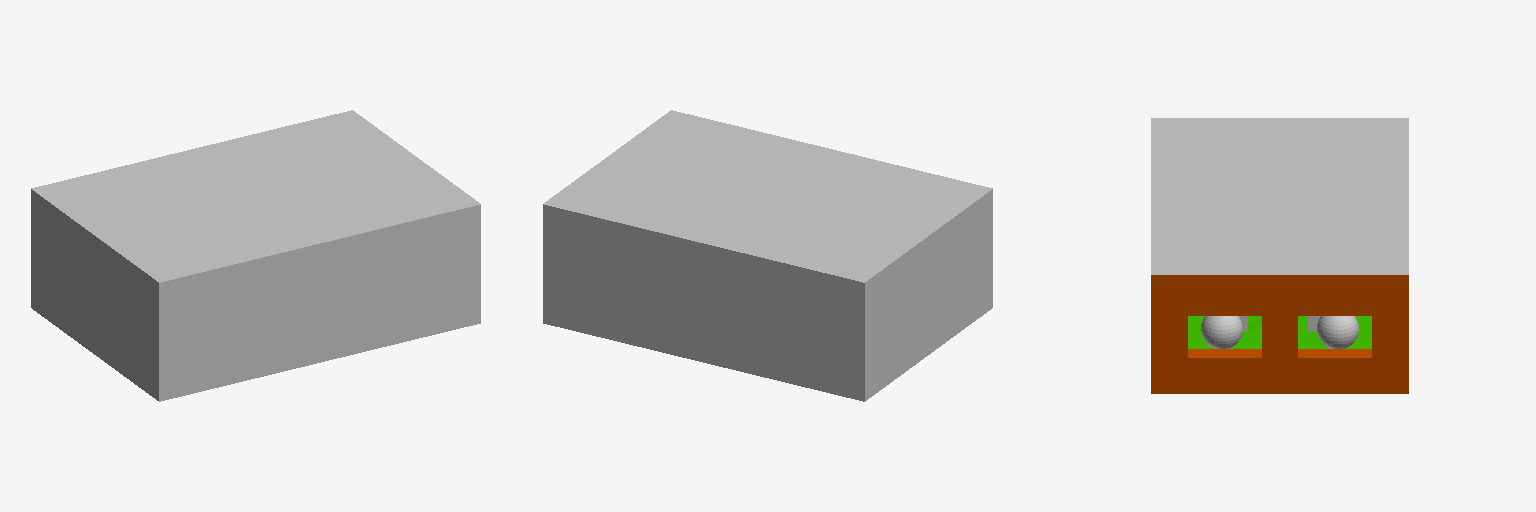
Rendered from pillarRoom_.obj.
3 renders of one model, left to right at view 1: azimuth 30°, elevation 25°; view 2: azimuth 150°, elevation 25°; view 3: azimuth 270°, elevation 25°, orthographic.
Visible parts, largest first — view 1: Cube_Cube.002; view 2: Cube_Cube.002; view 3: Cube_Cube.002, Sphere, Sphere.001.
Part boxes in pixels (x1,y1,x2,y2): Cube_Cube.002: (31, 110, 480, 401); Cube_Cube.002: (543, 110, 992, 401); Cube_Cube.002: (1151, 118, 1408, 393); Sphere: (1317, 316, 1358, 348); Sphere.001: (1201, 316, 1242, 348).
Bounding box in the file's own units: 17.64 × 6.23 × 12.2.